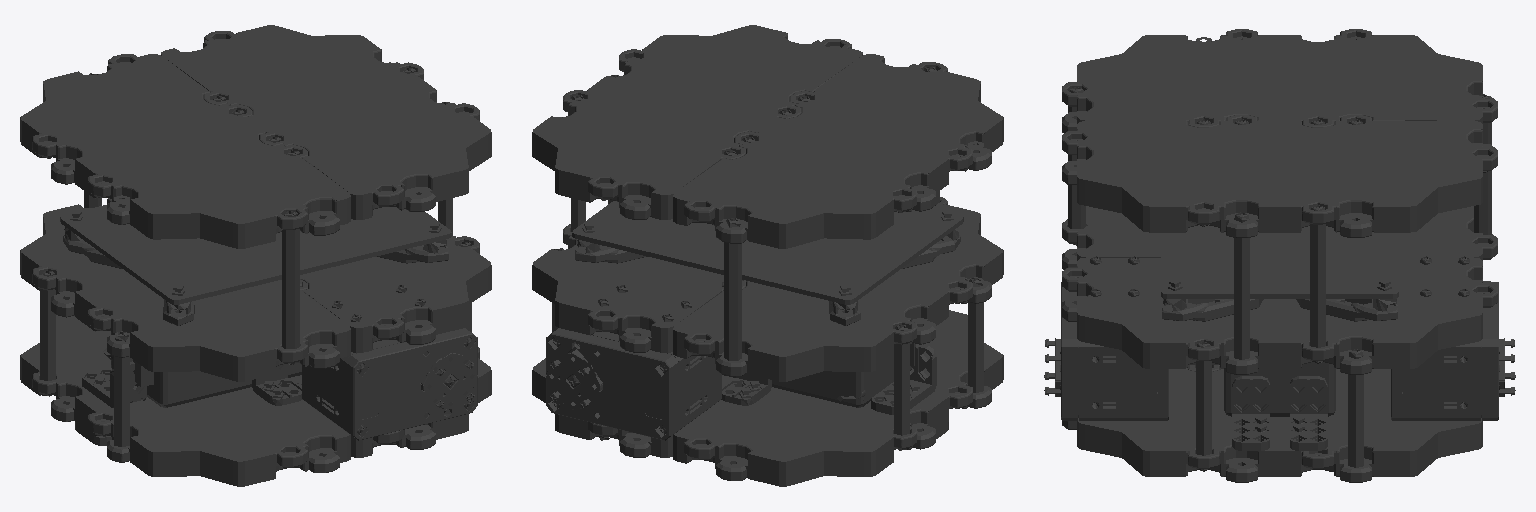
The robot description file, URDF, robot "turtlebot3_burger_low_lidar":
<?xml version="1.0"?>
<robot name="turtlebot3_burger_low_lidar">
  <link name="base_footprint"/>

  <joint name="base_joint" type="fixed">
    <parent link="base_footprint"/>
    <child link="base_link"/>
    <origin xyz="0 0 0.010" rpy="0 0 0"/>
  </joint>
  <link name="base_link">
    <inertial>
      <origin xyz="0 0 0.042" rpy="0 0 0"/>
      <mass value="0.82573504"/>
      <inertia ixx="0.002257" ixy="0" ixz="0" iyy="0.002045" iyz="0" izz="0.002814"/>
    </inertial>
    <collision>
      <origin xyz="0 0 0.052" rpy="0 0 0"/>
      <geometry><box size="0.138 0.149 0.104"/></geometry>
    </collision>
    <visual>
      <origin xyz="0 0 0" rpy="0 0 0"/>
      <geometry>
        <mesh filename="package://robot_simulation/models/turtlebot3_burger_low_lidar/meshes/burger_base_without_top.stl" scale="0.001 0.001 0.001"/>
      </geometry>
      <material name="chassis"><color rgba="0.3 0.3 0.3 1"/></material>
    </visual>
  </link>

  <joint name="wheel_left_joint" type="continuous">
    <parent link="base_link"/>
    <child link="wheel_left_link"/>
    <origin xyz="0 0.08 0.023" rpy="-1.57 0 0"/>
    <axis xyz="0 0 1"/>
  </joint>
  <link name="wheel_left_link"/>

  <joint name="wheel_right_joint" type="continuous">
    <parent link="base_link"/>
    <child link="wheel_right_link"/>
    <origin xyz="0 -0.08 0.023" rpy="-1.57 0 0"/>
    <axis xyz="0 0 1"/>
  </joint>
  <link name="wheel_right_link"/>

  <joint name="caster_back_joint" type="fixed">
    <parent link="base_link"/>
    <child link="caster_back_link"/>
    <origin xyz="-0.081 0 -0.004" rpy="-1.57 0 0"/>
  </joint>
  <link name="caster_back_link"/>

  <joint name="imu_joint" type="fixed">
    <parent link="base_link"/>
    <child link="imu_link"/>
    <origin xyz="-0.032 0 0.068" rpy="0 0 0"/>
  </joint>
  <link name="imu_link"/>

  <joint name="scan_joint" type="fixed">
    <parent link="base_link"/>
    <child link="base_scan"/>
    <origin xyz="-0.032 0 0.120" rpy="0 0 0"/>
  </joint>
  <link name="base_scan"/>
</robot>

--- What the picture shows (computed from the rendered views, not written in the file) ---
The picture shows the robot from 3 angles, left to right: view 1: azimuth 30°, elevation 25°; view 2: azimuth 150°, elevation 25°; view 3: azimuth 270°, elevation 25°; orthographic projection.
Robot: turtlebot3_burger_low_lidar — 7 links, 6 joints (2 continuous, 4 fixed); root link base_footprint; default pose: every joint at zero.
Links seen in each view (by area): view 1: base_link; view 2: base_link; view 3: base_link.
Link boxes in pixels (x1,y1,x2,y2): base_link: [20, 25, 491, 486]; base_link: [532, 25, 1003, 486]; base_link: [1044, 29, 1515, 482].
Bounding box of the posed robot: 0.1375 × 0.1483 × 0.1041 m (x, y, z).
Meshes: 1 distinct files referenced, 1 mesh visuals loaded (1 binary STL).
